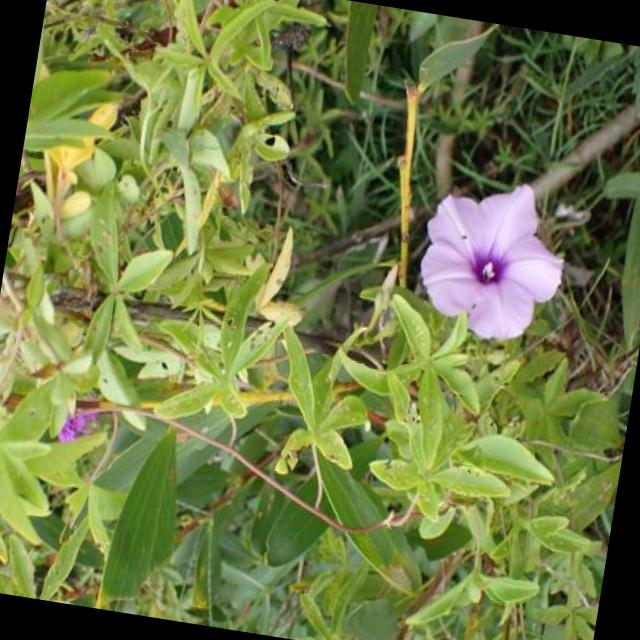ipomoea: (406, 164, 581, 354)
